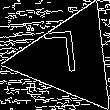L_S: (49, 31, 89, 85)
